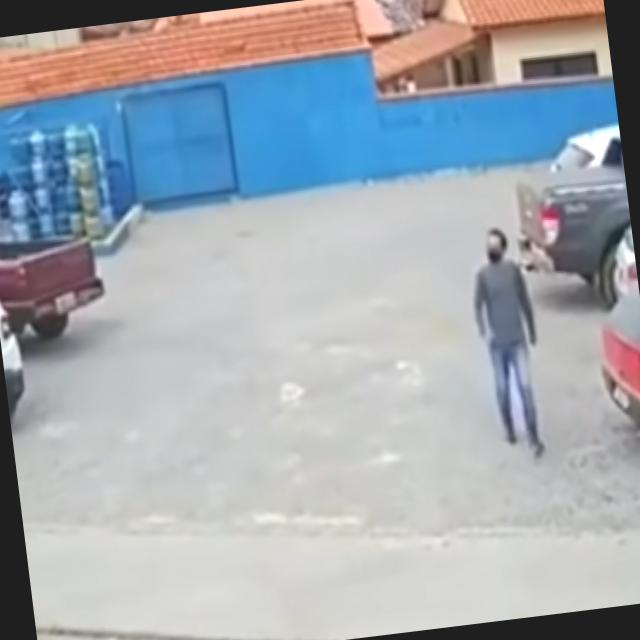person: (464, 226, 551, 461)
